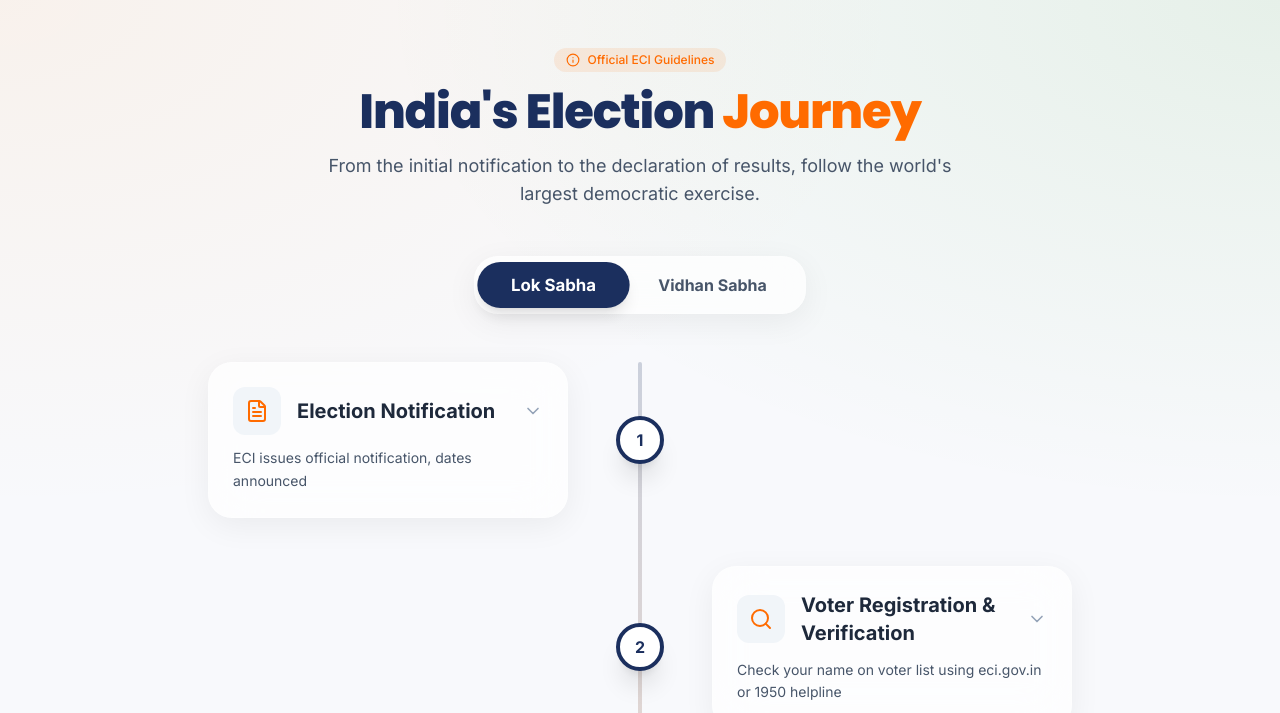
Test: Timeline Component › expands a stage when clicked
Click the heading "Election Notification" at {"x": 396, "y": 411}, box left=297, top=397, right=495, bottom=425
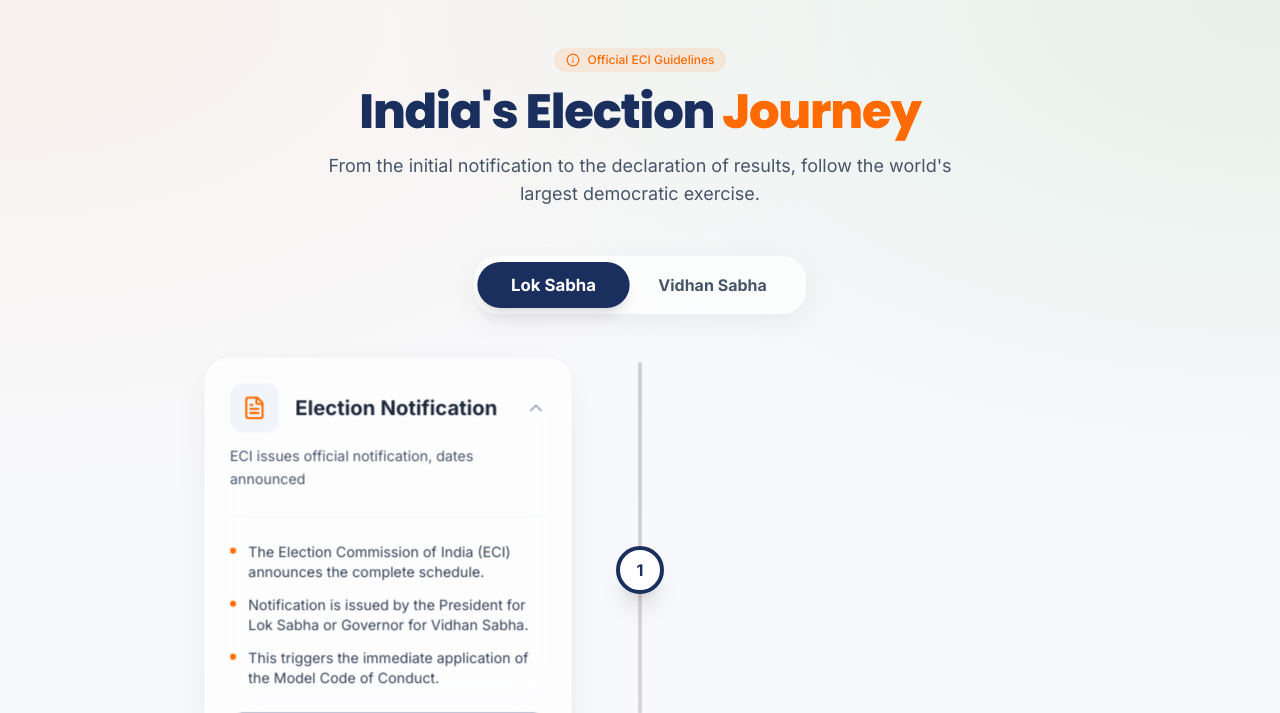
Expected: the list item "The Election Commission of India (ECI) announces the complete schedule" is shown, left=248, top=542, right=511, bottom=580
